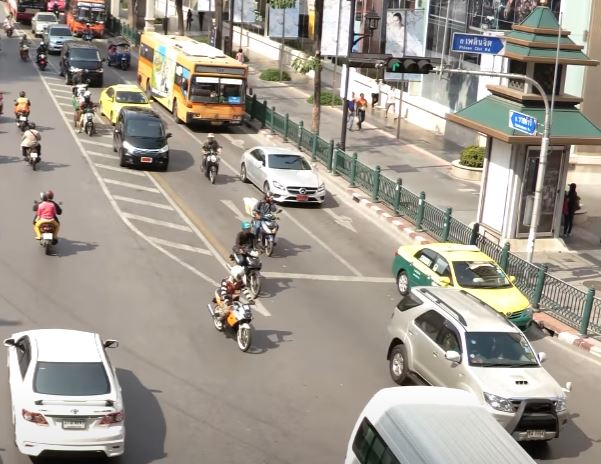Bus: (341, 386, 543, 464), (136, 31, 248, 134), (64, 1, 104, 37)
Car: (385, 282, 569, 450), (3, 326, 130, 460), (393, 238, 535, 333), (239, 144, 327, 208), (112, 104, 172, 173), (99, 84, 152, 121), (60, 41, 104, 83), (44, 24, 73, 54), (29, 11, 61, 37)
Motorcycle: (206, 264, 256, 351), (229, 222, 264, 299), (30, 189, 65, 255), (250, 191, 281, 260), (199, 130, 224, 184), (21, 119, 45, 170), (77, 90, 100, 136), (14, 90, 33, 130), (17, 32, 32, 62), (35, 42, 48, 71), (3, 13, 14, 36)
TukTuk: (106, 36, 132, 72)
